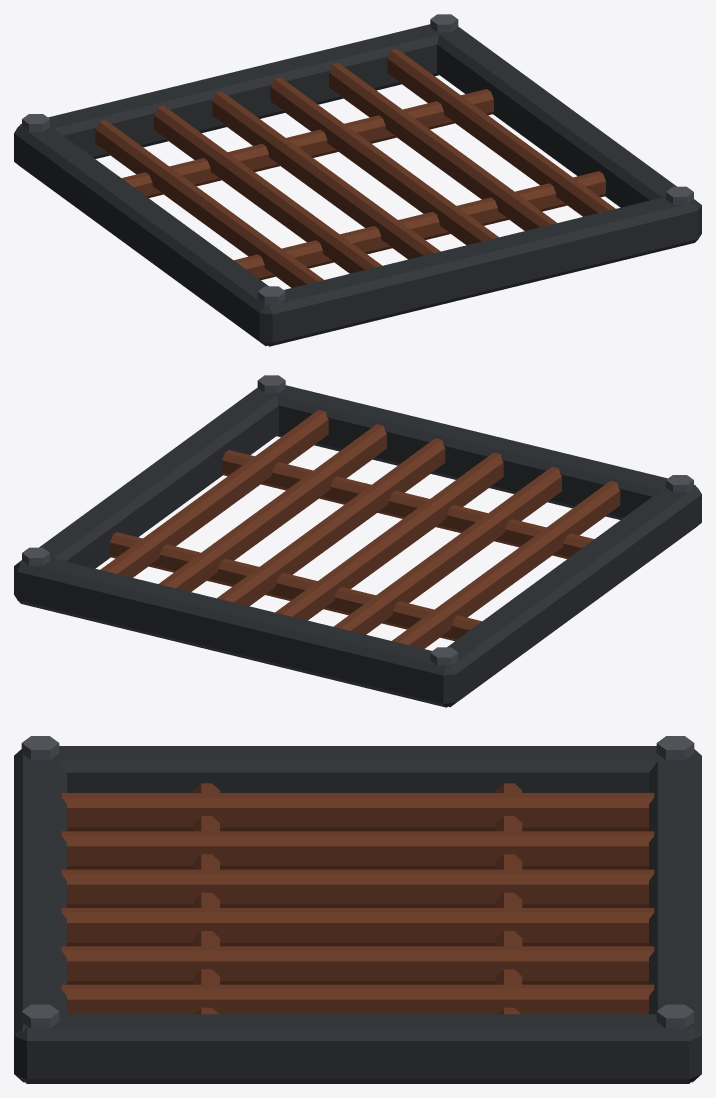
Rendered from grate.glb.
3 renders of one model, top to bottom at view 1: azimuth 30°, elevation 25°; view 2: azimuth 150°, elevation 25°; view 3: azimuth 270°, elevation 25°, orthographic. The views are drawn at different scales.
Parts seen in each view (by area): view 1: Grate; view 2: Grate; view 3: Grate.
Boxes of the visible parts, box(x1,y1,x2,y2) form: Grate: box(14, 14, 701, 346); Grate: box(14, 375, 701, 707); Grate: box(14, 736, 701, 1083).
Size of the model in its own units: 0.91 by 0.095 by 0.91.
